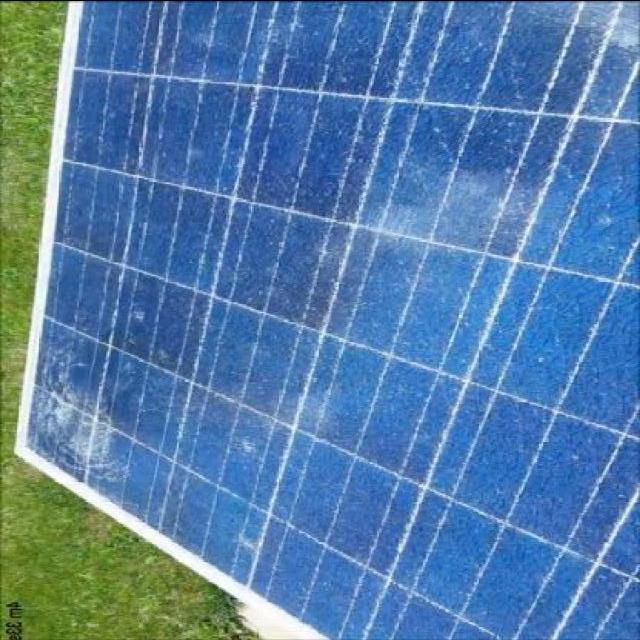cracked: (1, 6, 638, 629)
